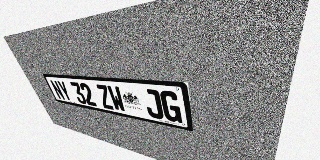2: (78, 83, 97, 106)
3: (70, 82, 88, 105)
G: (159, 90, 182, 123)
J: (142, 88, 164, 120)
N: (49, 80, 66, 100)
W: (106, 85, 127, 112)
Y: (56, 80, 73, 102)
Z: (95, 84, 115, 110)
